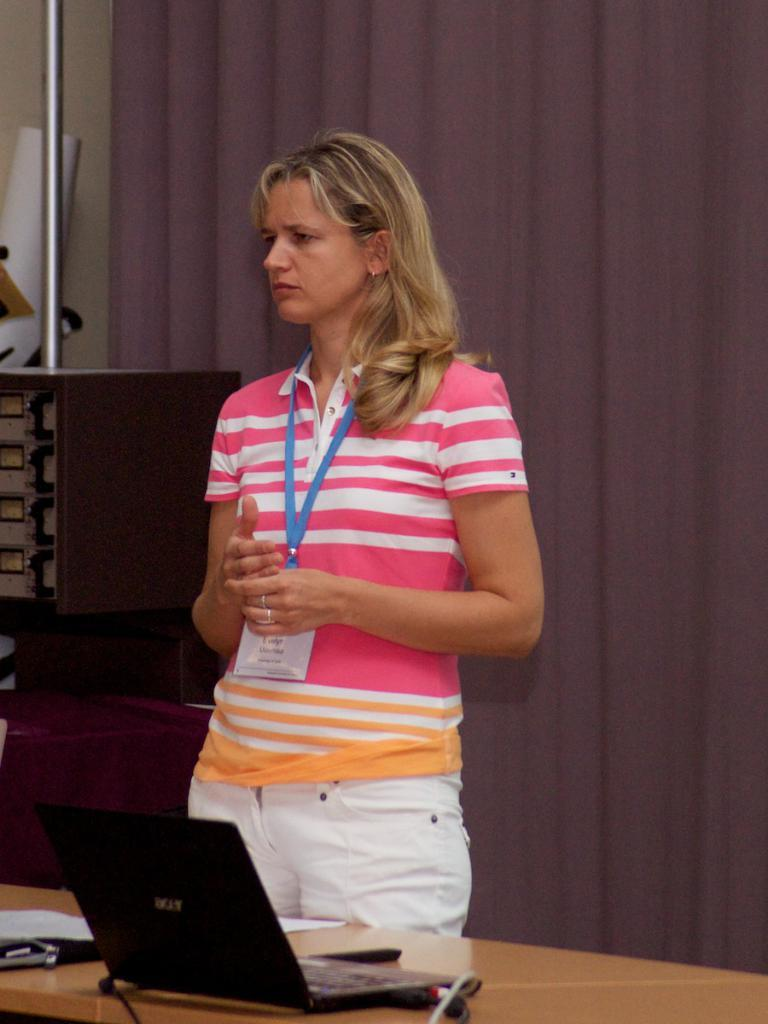Laptop: (43, 796, 481, 1011)
